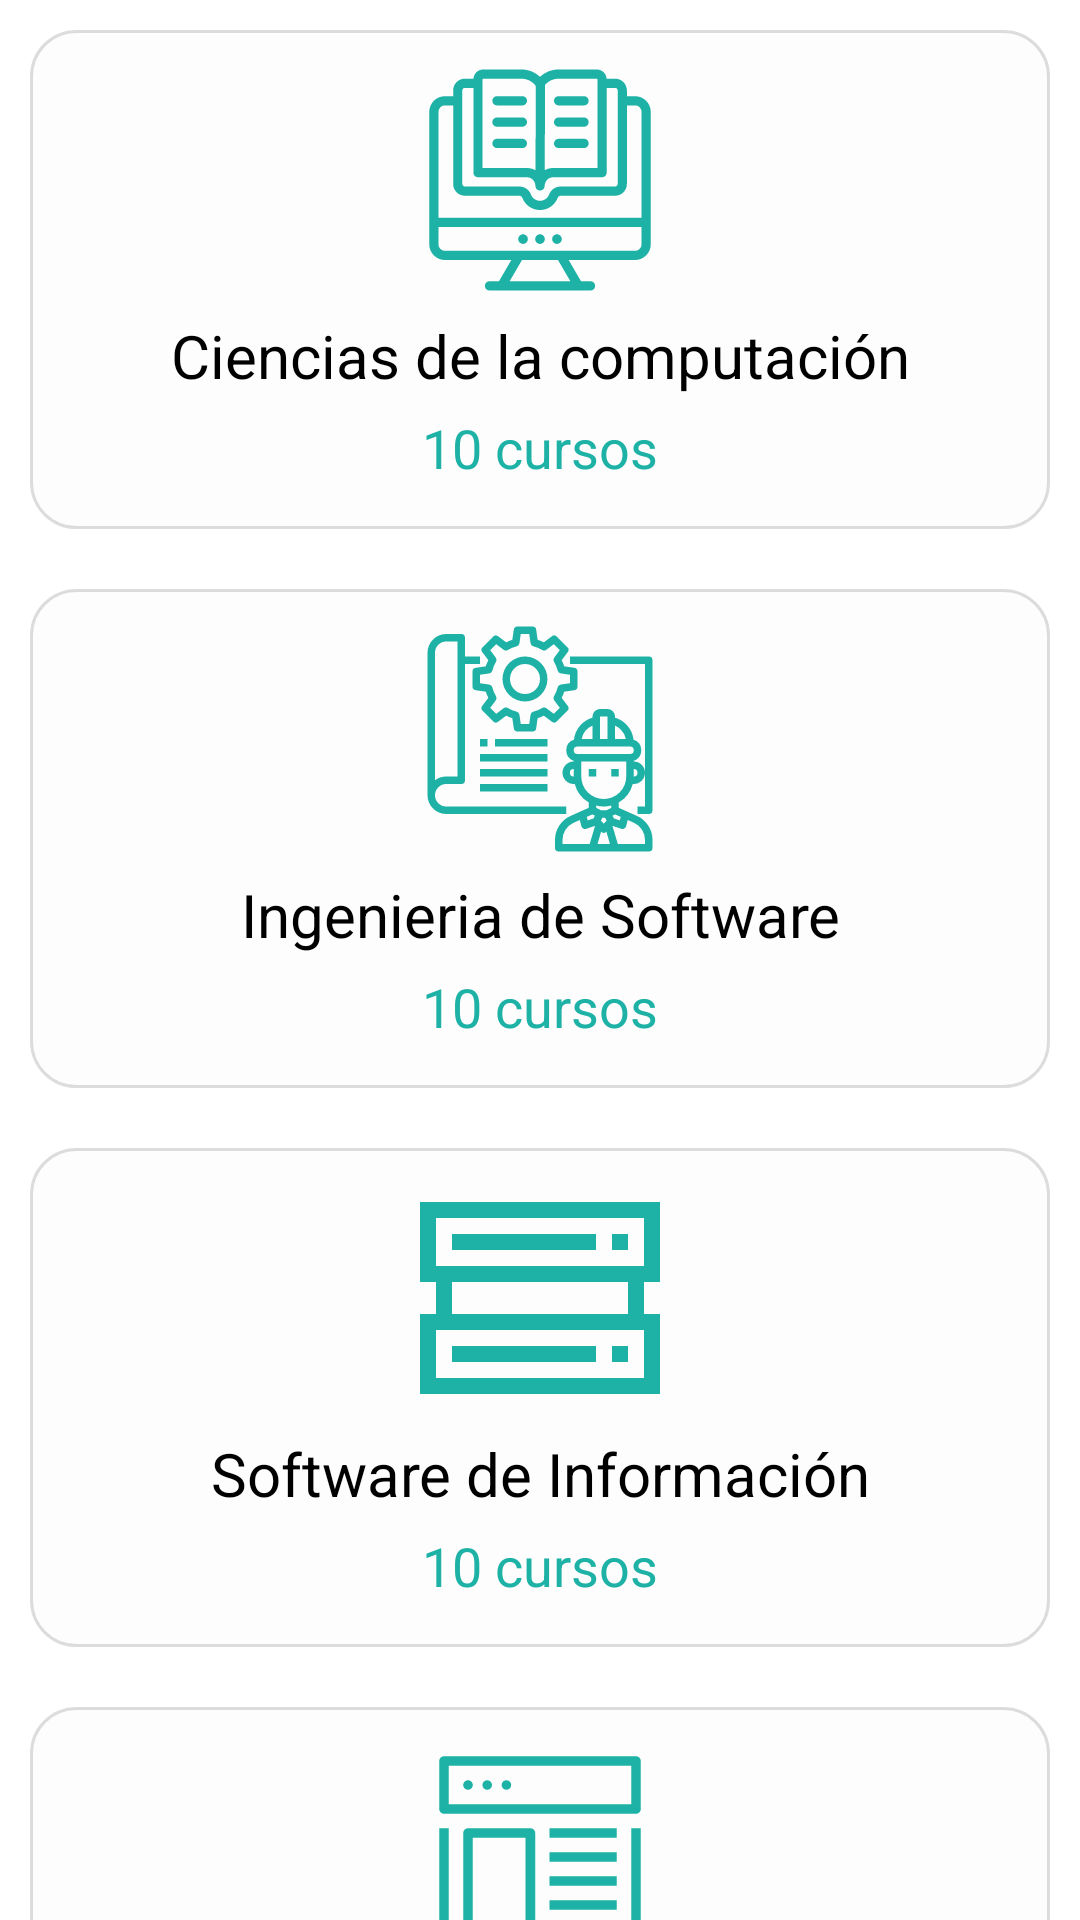

Named icons in this screenshot (1080 × 1920) and their bounding boxes, [x1, y1, x2, y2]:
digital book: [429, 69, 651, 291]
server: [420, 1202, 660, 1394]
